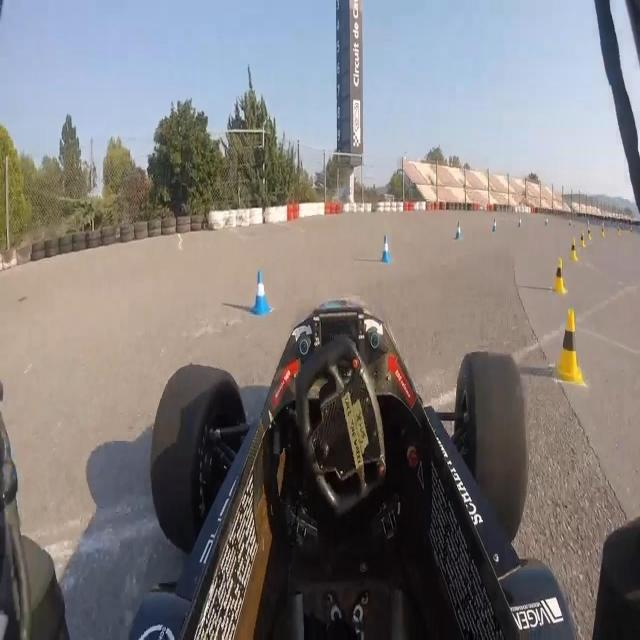blue_cone: (251, 269, 271, 316), (380, 233, 392, 264), (455, 220, 463, 240), (492, 216, 498, 233)
yellow_cone: (554, 308, 584, 384), (553, 258, 567, 295), (570, 237, 578, 262), (579, 229, 586, 247)
